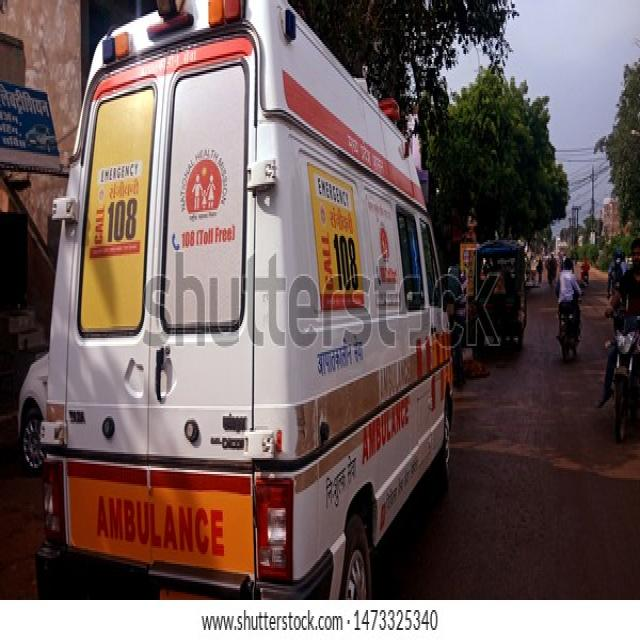ambulance: (46, 0, 454, 604)
